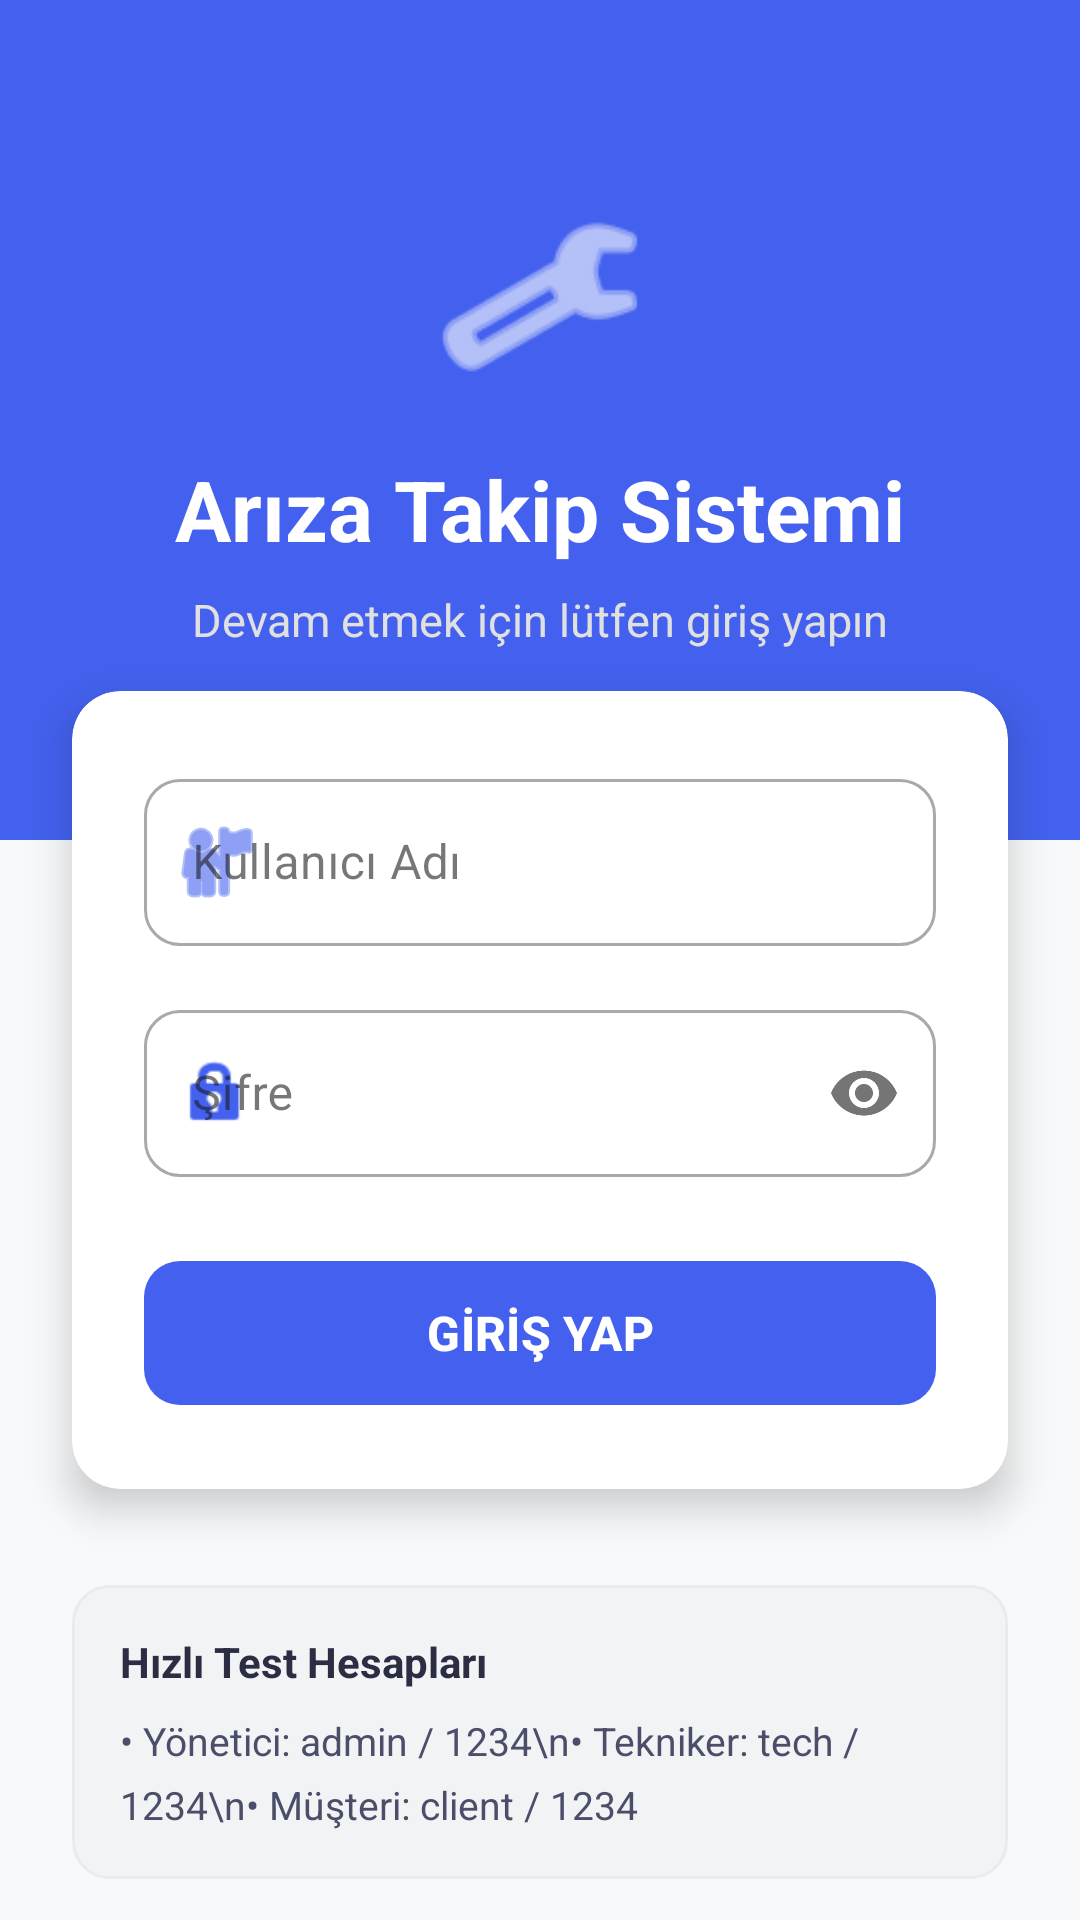

Screen size 1080px x 1920px. Icon name, then its center in pixels as (x=x, y=y):
manage: (x=540, y=297)
